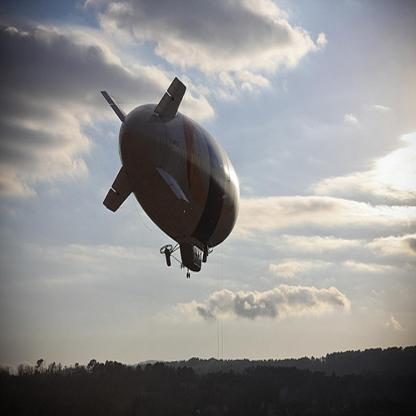Airship: (92, 74, 250, 286)
